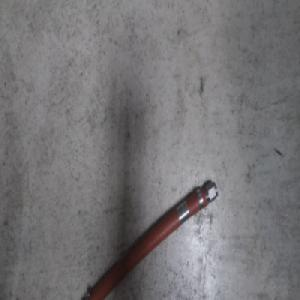Hose: (72, 176, 219, 300)
